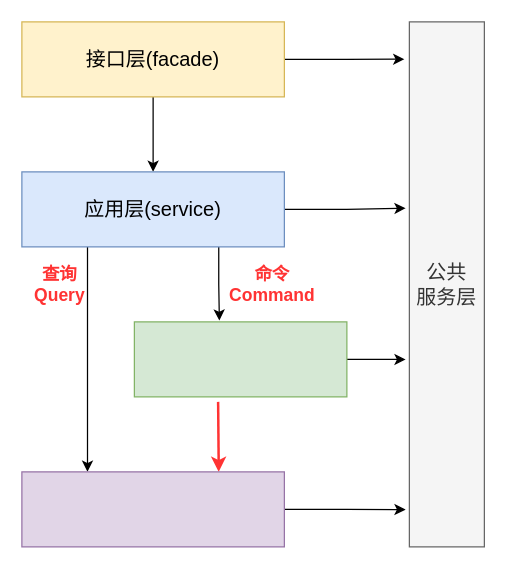
This 506x569 diagram has some shape labels left out. Each missing label, with the centre of its shape:
"基础设施层(repository)" goes at point 152,509.
"领域模型层(model)" goes at point 240,359.
